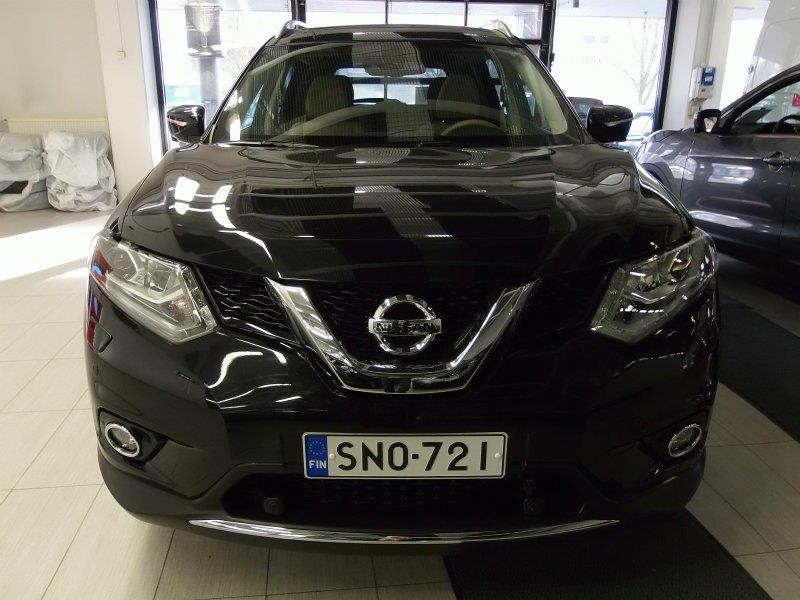license: (301, 430, 503, 481)
